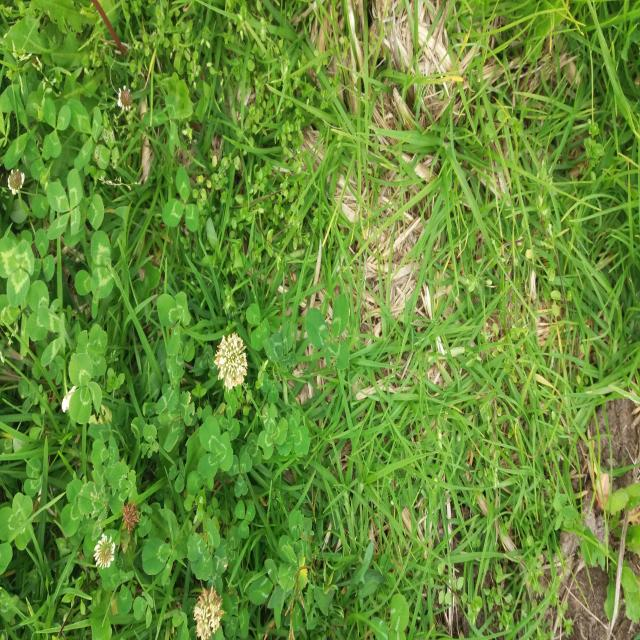Four Leaf Clover: (46, 168, 83, 240)
